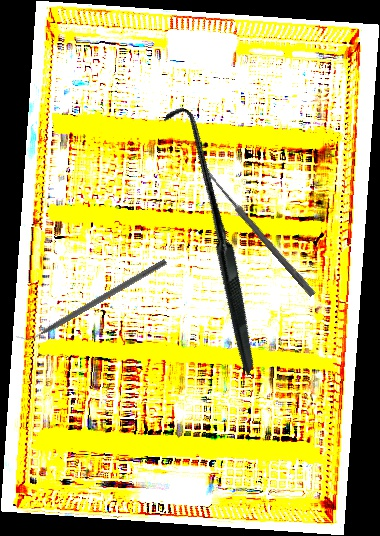Chopper: (14, 251, 168, 348)
Hook Surgical: (77, 103, 344, 376)
Surgical Spoon: (201, 166, 317, 298)
